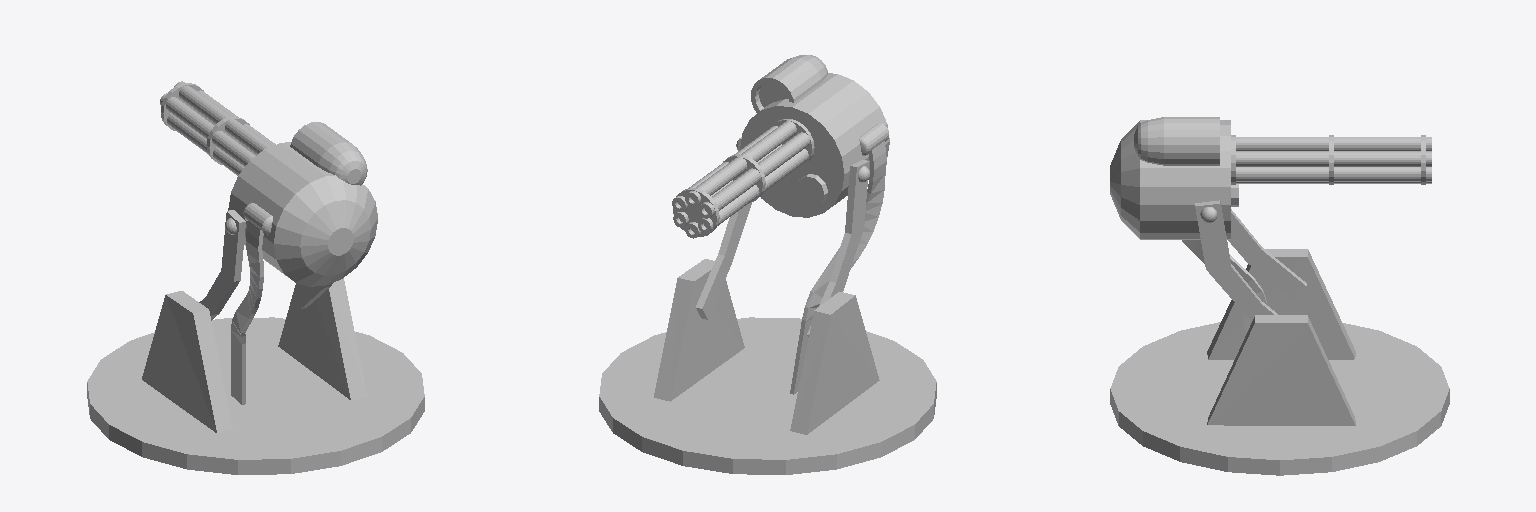
Rendered from turret.obj.
3 renders of one model, left to right at view 1: azimuth 30°, elevation 25°; view 2: azimuth 150°, elevation 25°; view 3: azimuth 270°, elevation 25°, orthographic.
Visible parts, largest first — view 1: polySurface90 polySurface113, polySurface98 polySurface90, polySurface90 polySurface99, polySurface90 polySurface100, polySurface90 polySurface116, polySurface90 polySurface109 polySurface120, polySurface90 polySurface105, polySurface90 polySurface109 polySurface122, polySurface90 polySurface101; view 2: polySurface90 polySurface113, polySurface98 polySurface90, polySurface90 polySurface99, polySurface90 polySurface100, polySurface90 polySurface116, polySurface90 polySurface105, polySurface90 polySurface117, polySurface90 polySurface109 polySurface120, polySurface90 polySurface109 polySurface122, polySurface90 polySurface114, polySurface90 polySurface107, polySurface90 polySurface101; view 3: polySurface90 polySurface113, polySurface98 polySurface90, polySurface90 polySurface100, polySurface90 polySurface105, polySurface90 polySurface119 polySurface109, polySurface90 polySurface117, polySurface90 polySurface109 polySurface121, polySurface90 polySurface116, polySurface90 polySurface99.
Boxes of the visible parts, x1=… form: polySurface90 polySurface113: x1=87, y1=278, x2=424, y2=474; polySurface98 polySurface90: x1=228, y1=142, x2=377, y2=286; polySurface90 polySurface99: x1=231, y1=221, x2=263, y2=404; polySurface90 polySurface100: x1=290, y1=122, x2=367, y2=185; polySurface90 polySurface116: x1=199, y1=210, x2=245, y2=320; polySurface90 polySurface109 polySurface120: x1=160, y1=93, x2=255, y2=166; polySurface90 polySurface105: x1=174, y1=81, x2=271, y2=154; polySurface90 polySurface109 polySurface122: x1=161, y1=113, x2=244, y2=175; polySurface90 polySurface101: x1=243, y1=203, x2=272, y2=235; polySurface90 polySurface113: x1=599, y1=259, x2=936, y2=474; polySurface98 polySurface90: x1=740, y1=73, x2=889, y2=217; polySurface90 polySurface99: x1=790, y1=141, x2=886, y2=394; polySurface90 polySurface100: x1=751, y1=55, x2=827, y2=112; polySurface90 polySurface116: x1=807, y1=160, x2=869, y2=336; polySurface90 polySurface105: x1=685, y1=121, x2=796, y2=238; polySurface90 polySurface117: x1=696, y1=137, x2=751, y2=319; polySurface90 polySurface109 polySurface120: x1=698, y1=132, x2=809, y2=218; polySurface90 polySurface109 polySurface122: x1=698, y1=149, x2=808, y2=233; polySurface90 polySurface114: x1=796, y1=174, x2=827, y2=206; polySurface90 polySurface107: x1=673, y1=188, x2=719, y2=236; polySurface90 polySurface101: x1=859, y1=123, x2=888, y2=155; polySurface90 polySurface113: x1=1110, y1=249, x2=1449, y2=475; polySurface98 polySurface90: x1=1110, y1=120, x2=1230, y2=239; polySurface90 polySurface100: x1=1134, y1=117, x2=1219, y2=165; polySurface90 polySurface105: x1=1236, y1=137, x2=1431, y2=183; polySurface90 polySurface119 polySurface109: x1=1236, y1=151, x2=1431, y2=166; polySurface90 polySurface117: x1=1195, y1=200, x2=1277, y2=320; polySurface90 polySurface109 polySurface121: x1=1236, y1=167, x2=1431, y2=181; polySurface90 polySurface116: x1=1228, y1=209, x2=1306, y2=300; polySurface90 polySurface99: x1=1182, y1=240, x2=1267, y2=333.
Bounding box in the file's own units: 3.94 × 3.82 × 3.94.